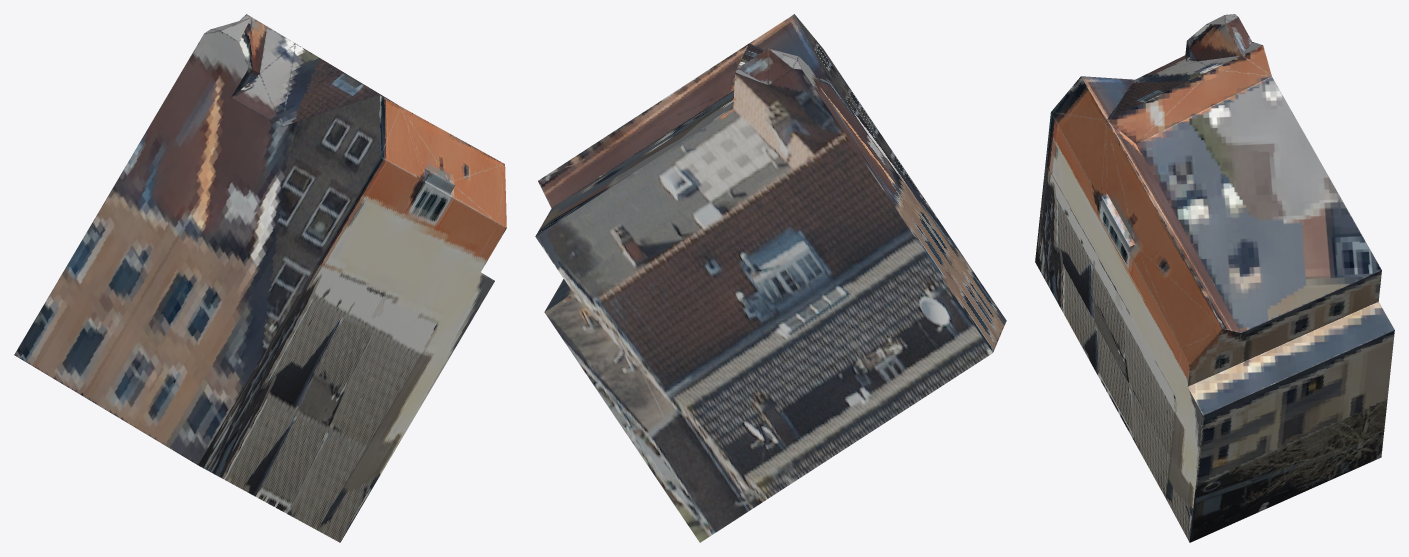
3 views of the same model, side by side, from view 1: azimuth 30°, elevation 25°; view 2: azimuth 150°, elevation 25°; view 3: azimuth 270°, elevation 25° (orthographic). The views are drawn at different scales.
Visible parts, largest first — view 1: BAG_0599100000656921 (×5); view 2: BAG_0599100000656921 (×3); view 3: BAG_0599100000656921 (×5).
Part boxes in pixels (left/top/right/bottom): BAG_0599100000656921 (×5): left=14, top=14, right=506, bottom=542; BAG_0599100000656921 (×3): left=535, top=14, right=1006, bottom=542; BAG_0599100000656921 (×5): left=1035, top=15, right=1394, bottom=542.
Bounding box in the file's own units: 22.14 × 22.65 × 15.16.
1 material, 1 textured.
